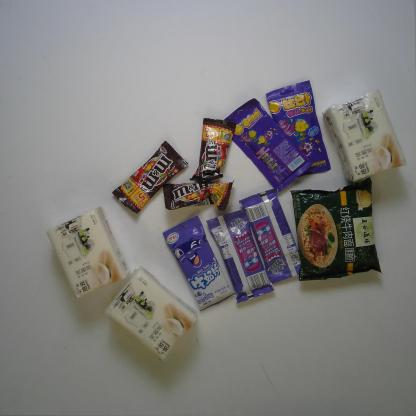Candy: (219, 98, 310, 192), (163, 214, 236, 312), (264, 79, 332, 180), (206, 208, 274, 303), (239, 188, 303, 284)
Chocolate: (111, 141, 189, 213), (189, 117, 236, 180), (162, 180, 234, 211)
Instant Noodles: (290, 177, 383, 282)
Tissue: (105, 267, 197, 361), (322, 90, 407, 182), (46, 206, 131, 298)
